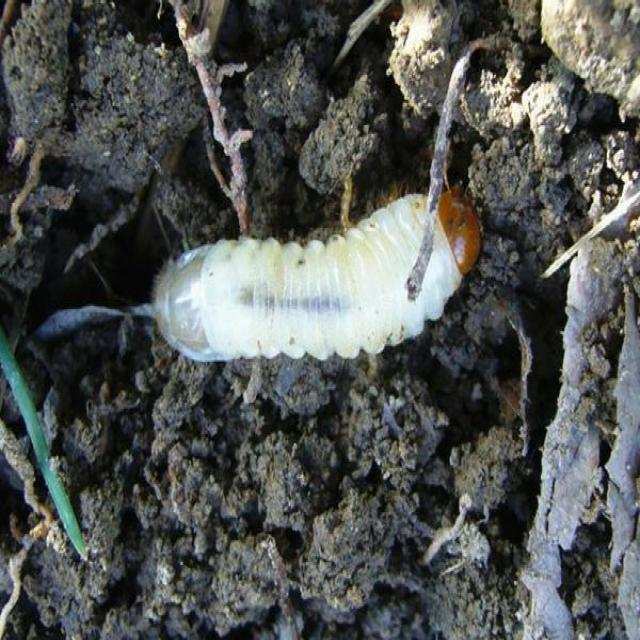grub: (140, 228, 483, 368)
